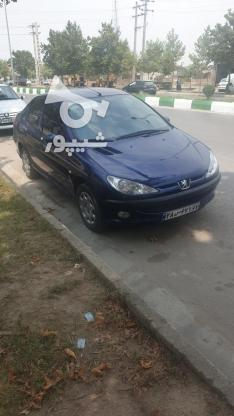car: (162, 200, 201, 222)
